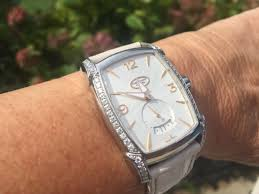clock: (100, 52, 198, 154)
